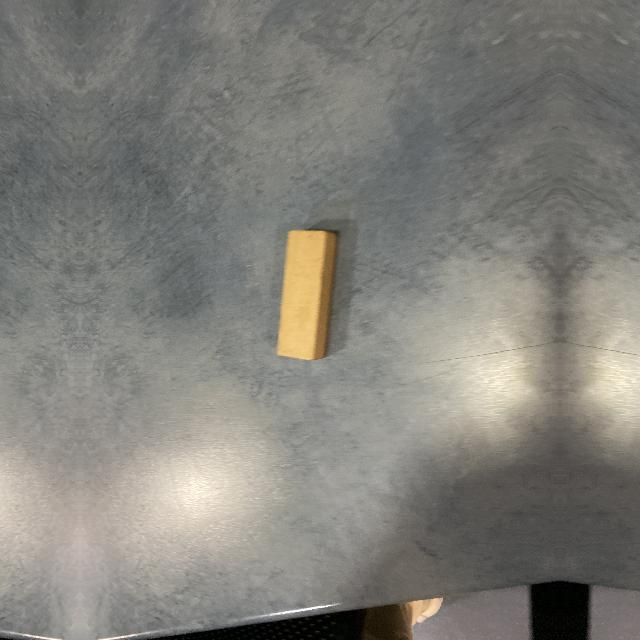jenga: (275, 229, 339, 363)
